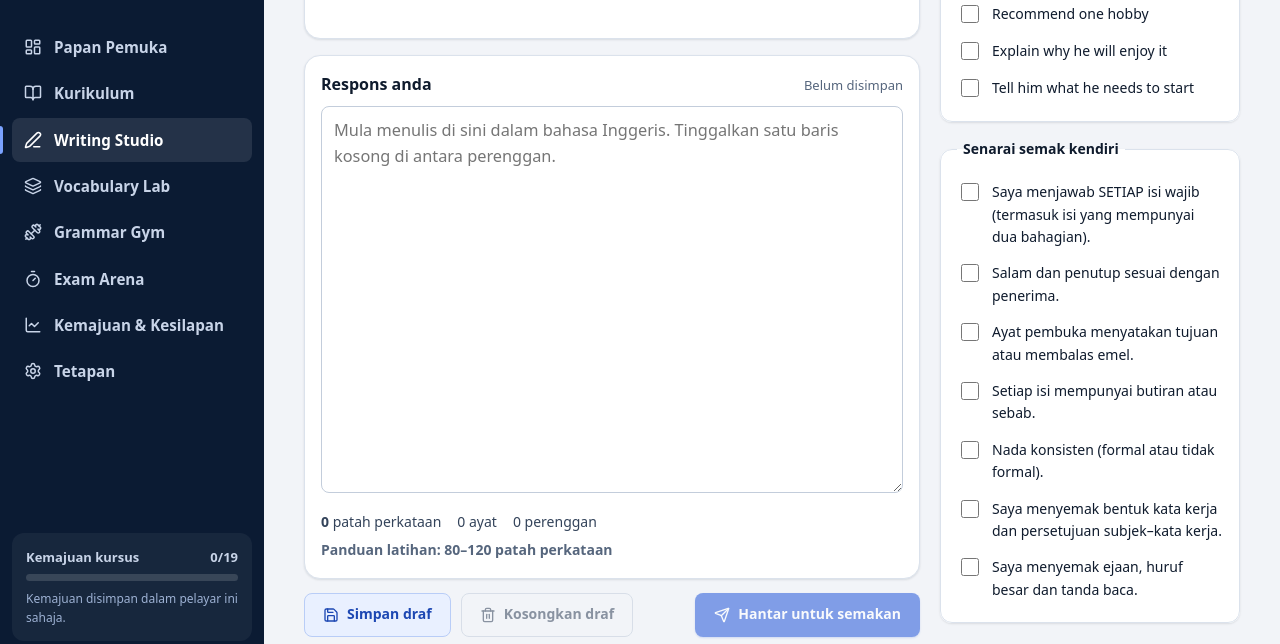
Scenario: writing studio (Flow C/D) › asks before clearing a draft
(page scrolled)
Type "Some text" into the text box labelled "Respons anda" at [612, 300], box [321, 106, 903, 493]
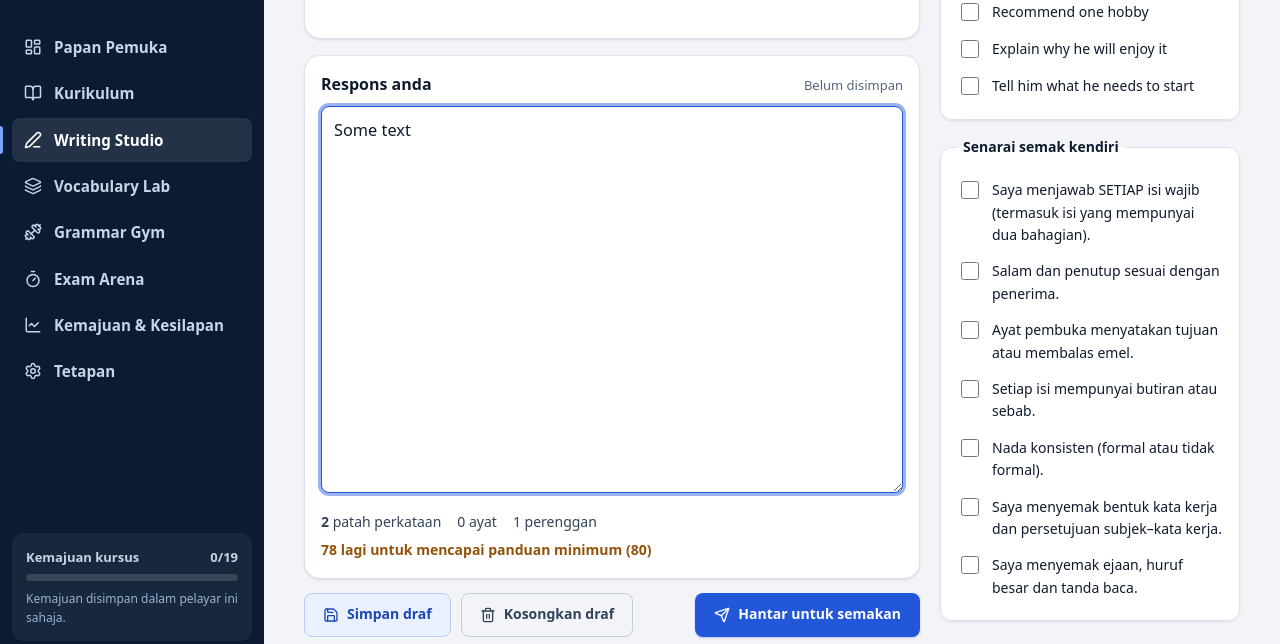
Click the button "Kosongkan draf" at [547, 615], box [461, 593, 633, 637]
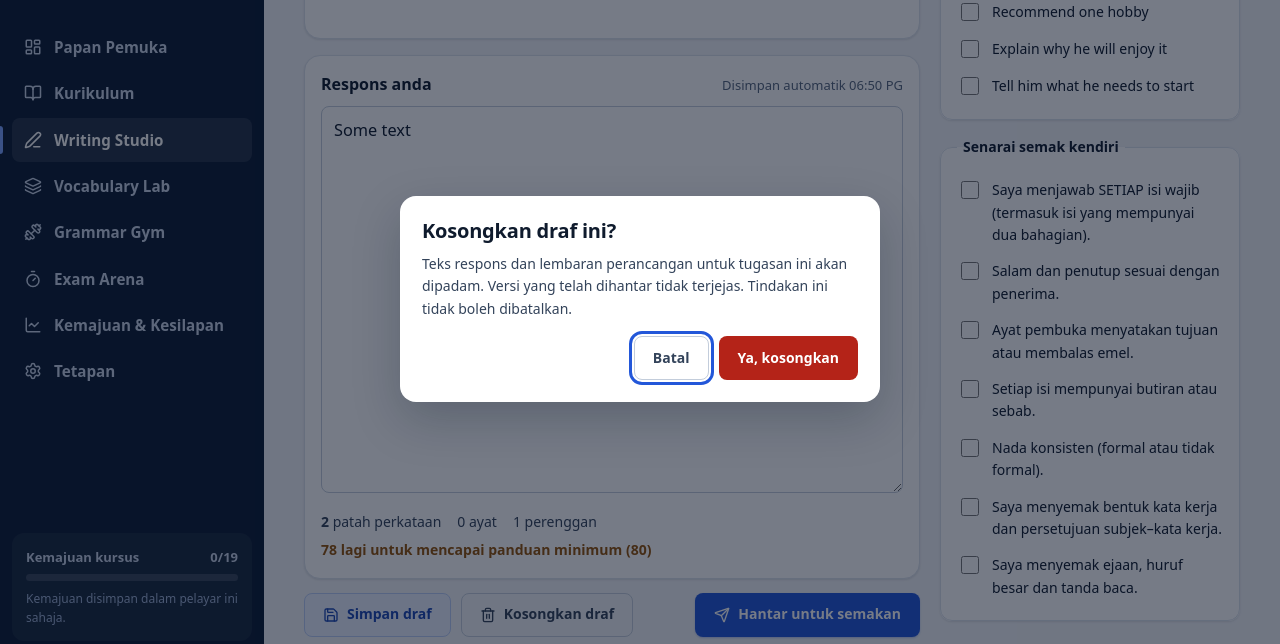
Click the button "Batal" at [671, 358], box [634, 336, 708, 380]
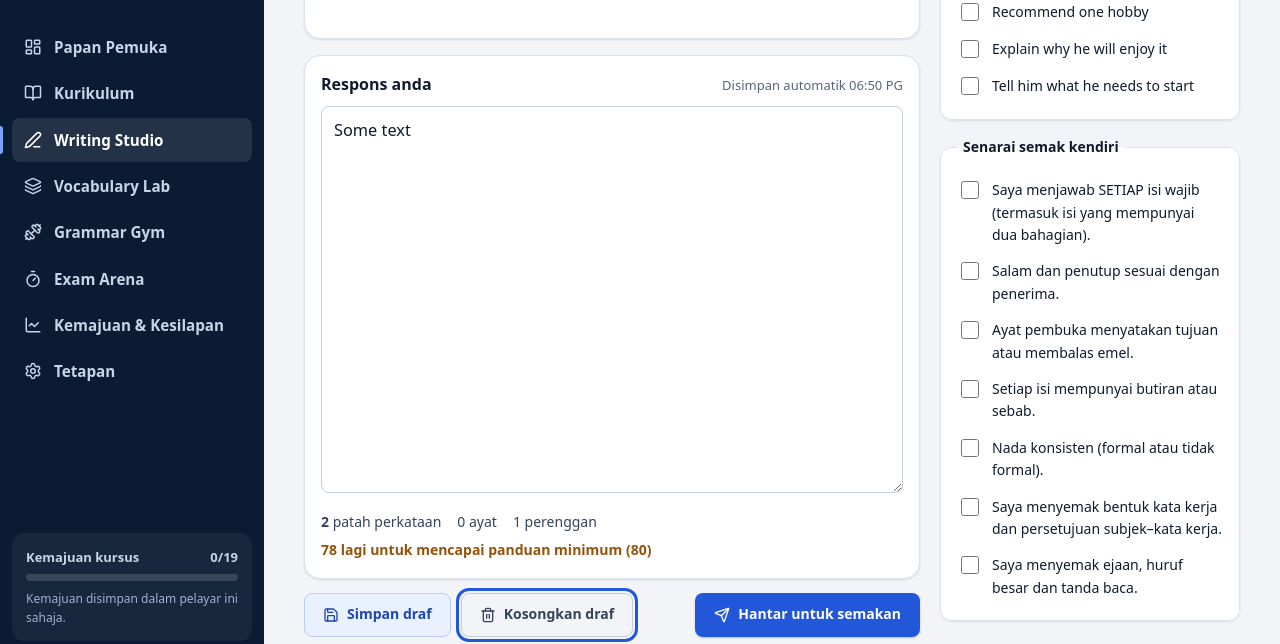
Click the button "Kosongkan draf" at [547, 615], box [461, 593, 633, 637]
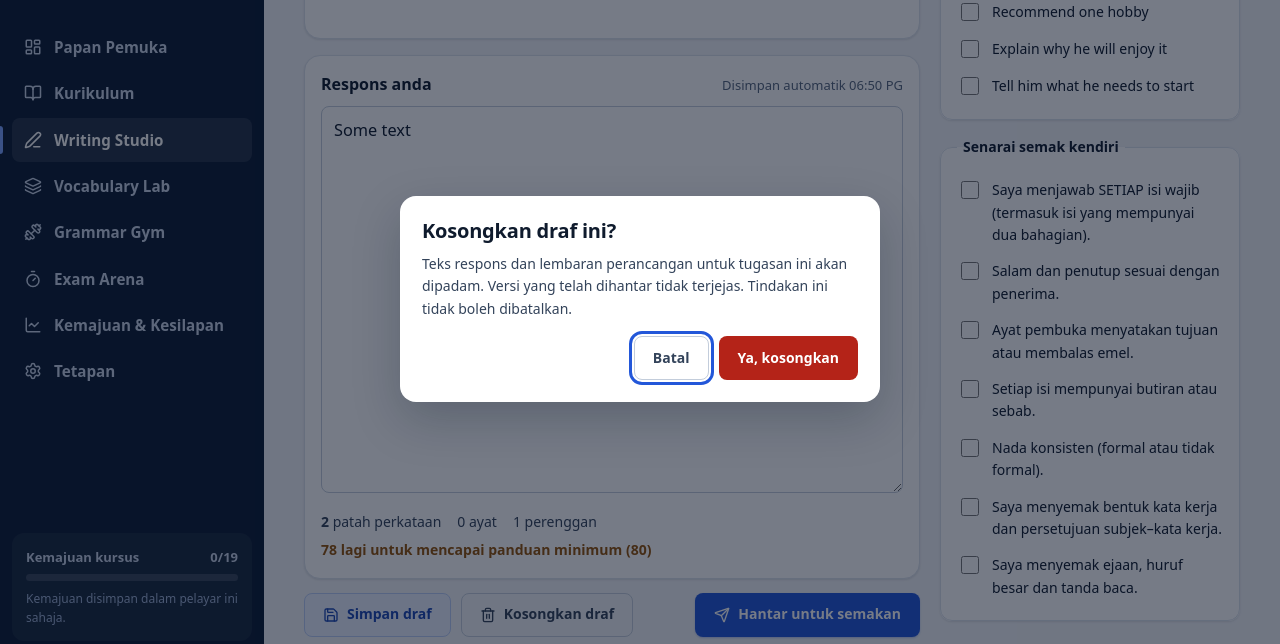
Click the button "Ya, kosongkan" at [788, 358], box [718, 336, 858, 380]
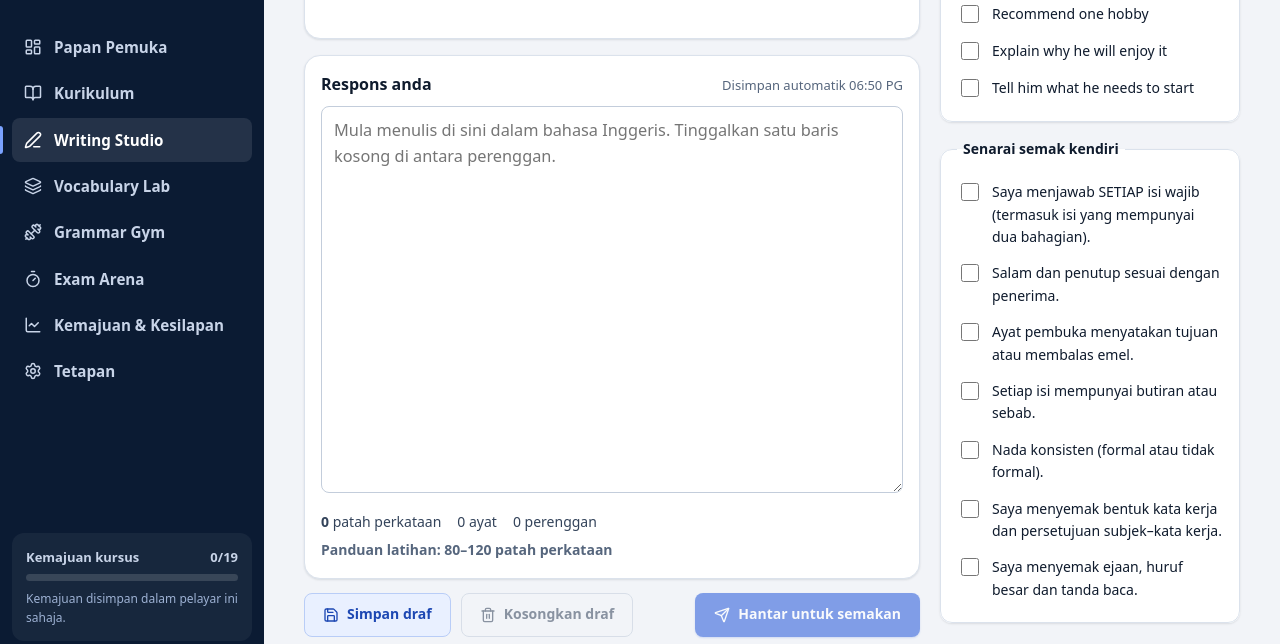
Expected: the text box labelled "Respons anda" is empty, [321, 106, 903, 493]
